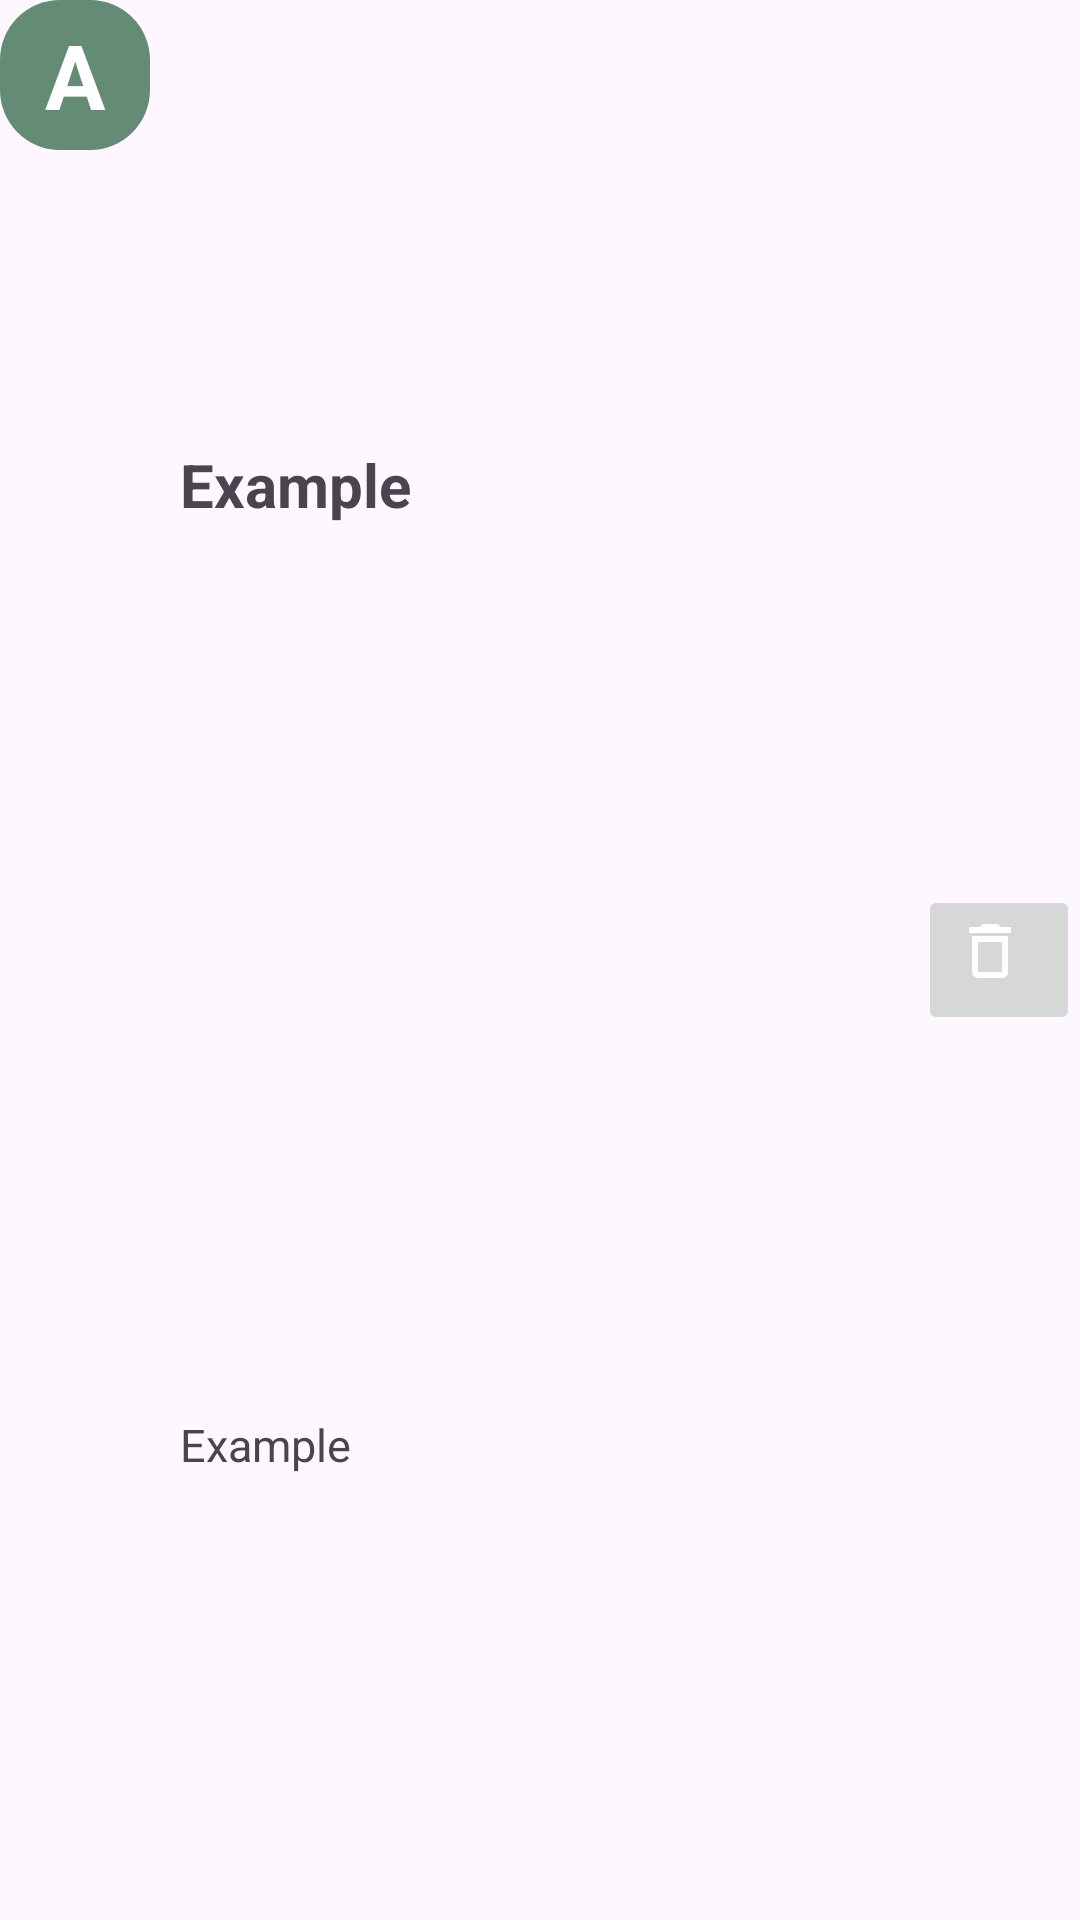

Where icons sit on this 1080×1920 app screen, as region(x1, y1, x2, y2):
delete: region(930, 903, 1068, 1017)
